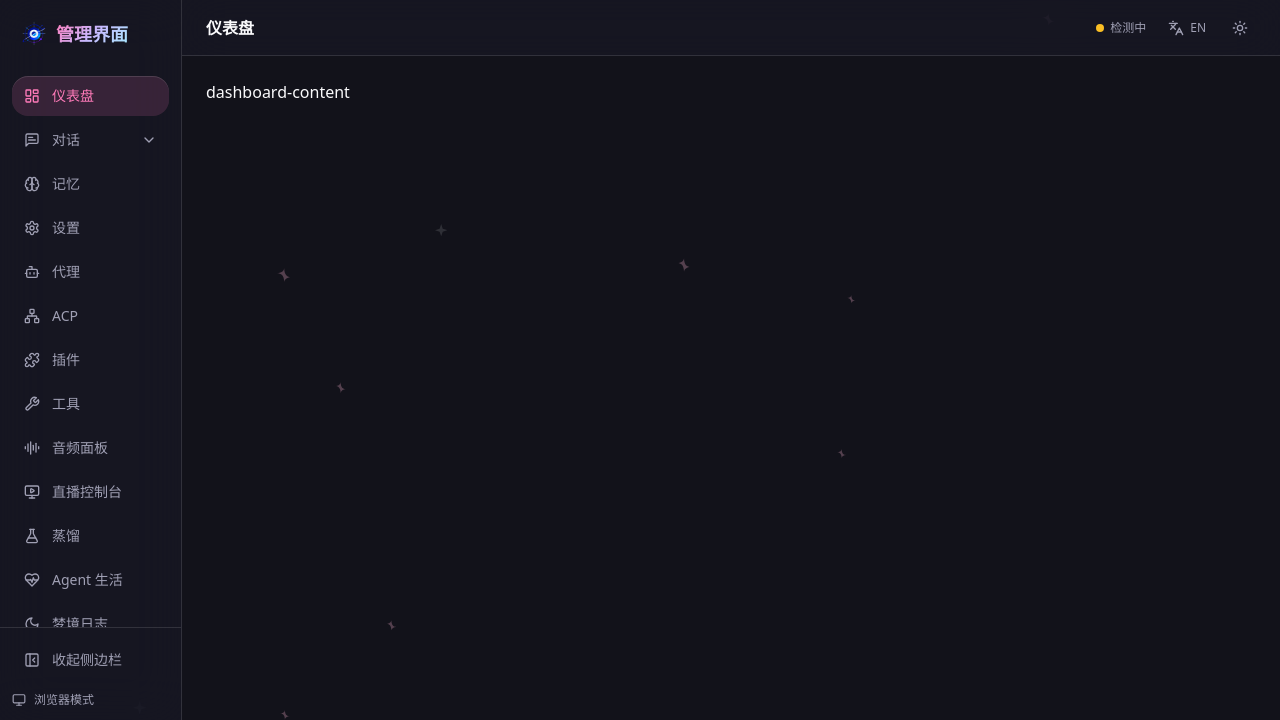
ManagementLayout 增强侧边栏 › B. 整体折叠后：小工具分组不占位、子项平铺为图标（title 作 tooltip）
Click the button "收起侧边栏". click: point(90, 660)
box: [12,640,169,680]
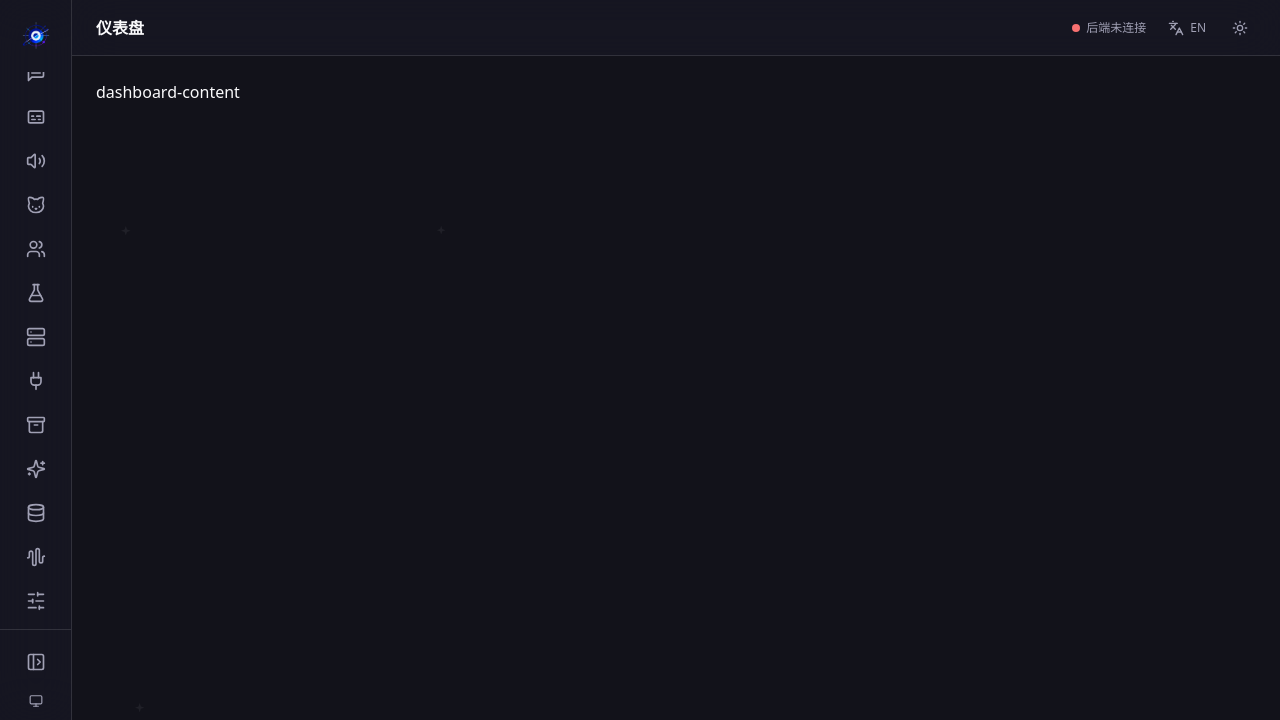
expect the link titled "向量数据" is shown: met, box [26,503,46,523]
expect the link titled "归档" is shown: met, box [26,415,46,435]
expect the link titled "作曲/翻唱CXFC" is shown: met, box [26,591,46,611]
